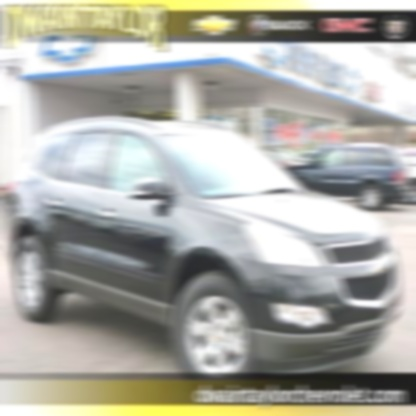Vehicle: (4, 112, 409, 392)
